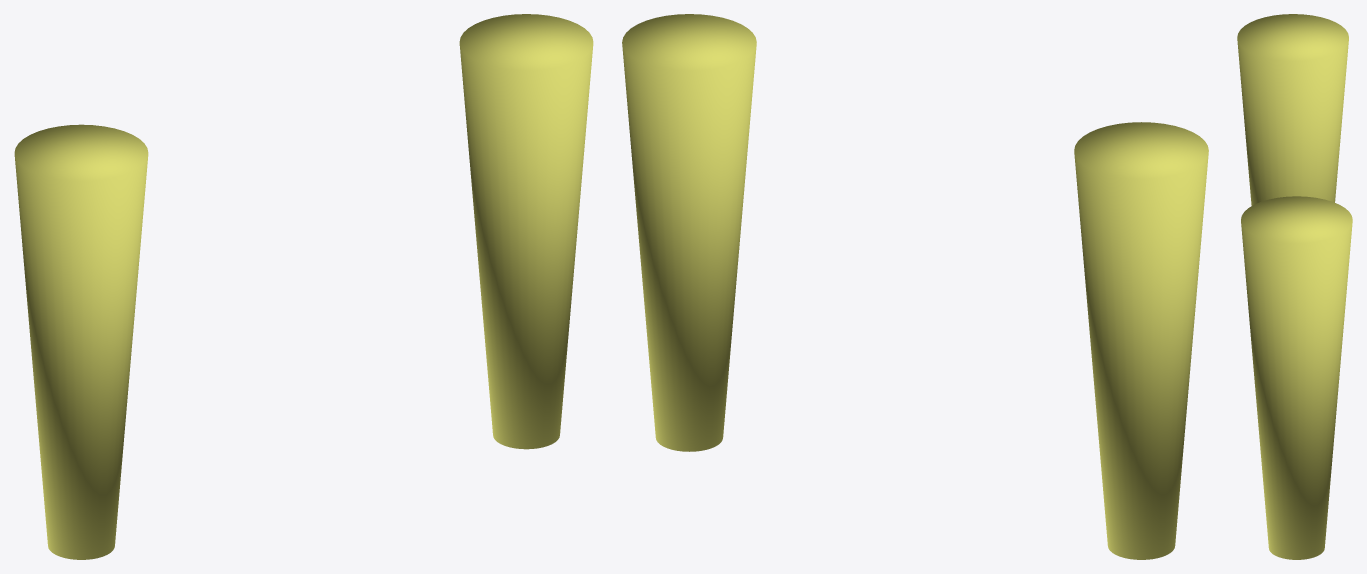
File: headlights.obj
3 views of the same model, side by side, from view 1: azimuth 30°, elevation 25°; view 2: azimuth 150°, elevation 25°; view 3: azimuth 270°, elevation 25° (orthographic). The views are drawn at different scales.
Size of the model in its own units: 59.87 by 39.9 by 12.74.
